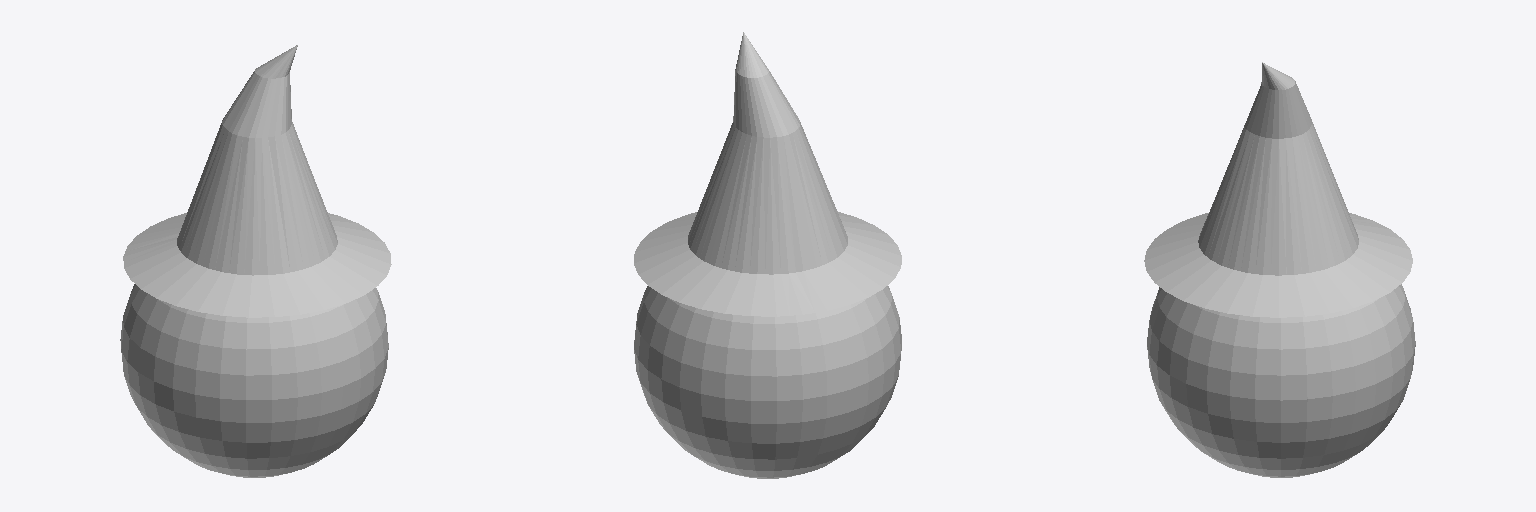
Rendered from Wizard.obj.
The picture shows the model from 3 angles: view 1: azimuth 30°, elevation 25°; view 2: azimuth 150°, elevation 25°; view 3: azimuth 270°, elevation 25°; orthographic projection.
Parts seen in each view (by area): view 1: Sphere, Cone; view 2: Sphere, Cone; view 3: Sphere, Cone.
Part boxes in pixels (bbox=[...]): Sphere: bbox=[120, 284, 388, 477]; Cone: bbox=[123, 45, 391, 317]; Sphere: bbox=[634, 286, 901, 478]; Cone: bbox=[634, 32, 901, 316]; Sphere: bbox=[1147, 284, 1415, 477]; Cone: bbox=[1144, 62, 1412, 317].
Bounding box in the file's own units: 2.01 × 3.44 × 2.02.